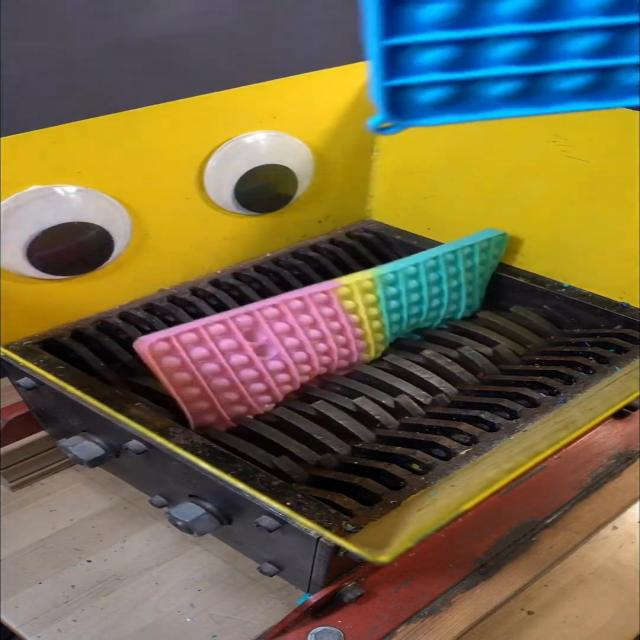Broyeur: (0, 215, 640, 569)
